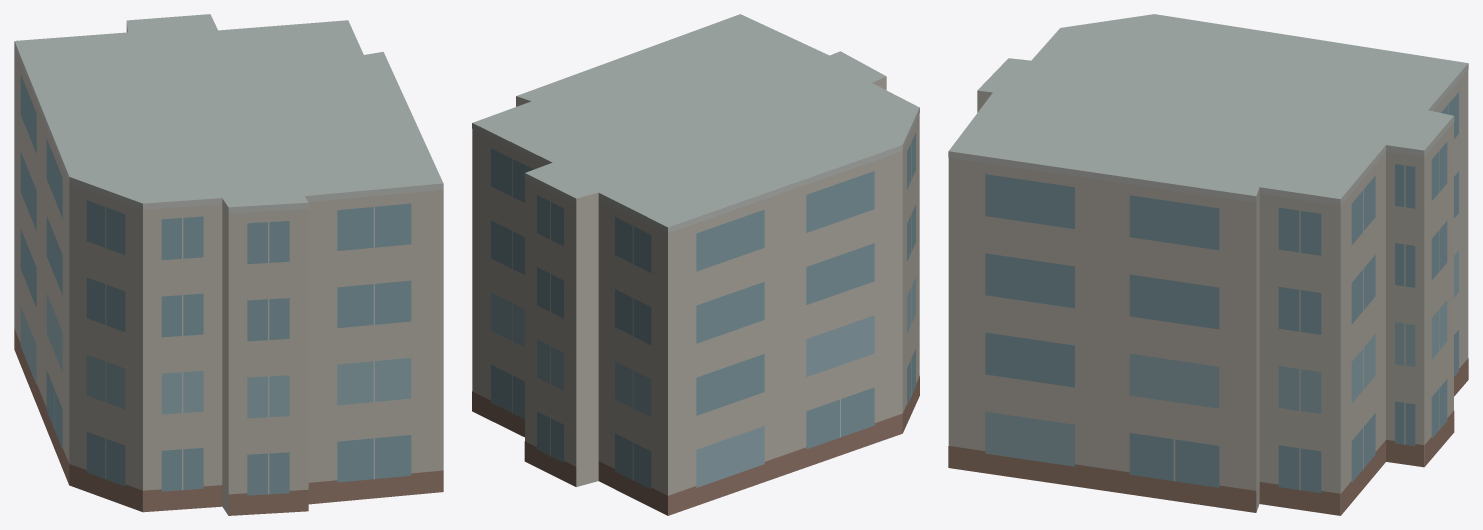
The model's file is survey-upis-32674749.glb.
The picture shows the model from 3 angles, left to right: view 1: azimuth 30°, elevation 25°; view 2: azimuth 150°, elevation 25°; view 3: azimuth 270°, elevation 25°; orthographic projection. The views are drawn at different scales.
Parts seen in each view (by area): view 1: survey-upis-32674749.tmp; view 2: survey-upis-32674749.tmp; view 3: survey-upis-32674749.tmp.
Part boxes in pixels (x1,y1,x2,y2): survey-upis-32674749.tmp: (14,14,443,515); survey-upis-32674749.tmp: (472,14,919,515); survey-upis-32674749.tmp: (948,14,1468,515).
Bounding box in the file's own units: 15.12 × 12.05 × 17.94.
